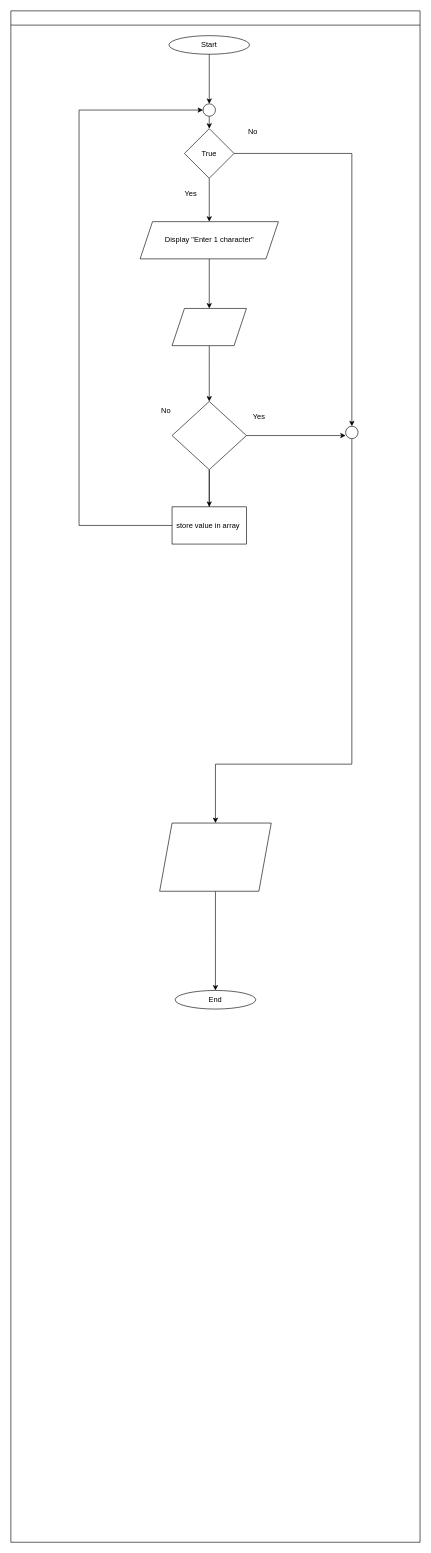
The diagram is 431 pixels wide and 1553 high, and some of its shapes have lost their labels. Each missing label, with the centre of its shape:
"char equal y or Y ?" goes at pixel 208 435.
"Display each value in array" goes at pixel 215 856.
"Read char" goes at pixel 208 327.
